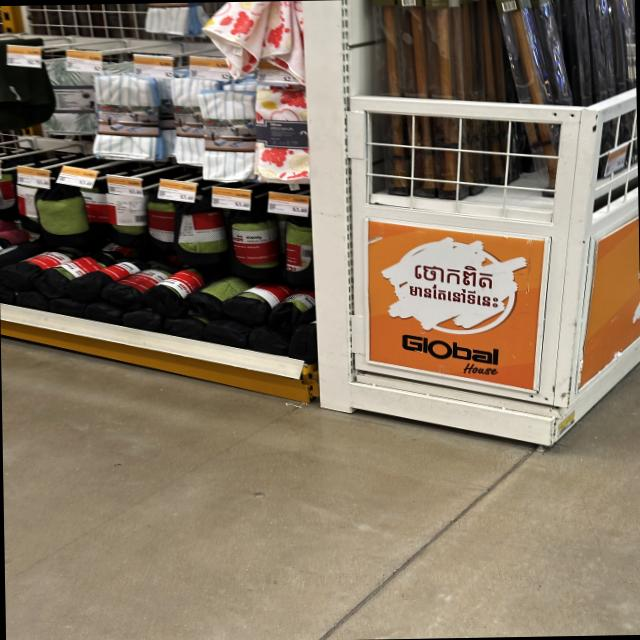Yolov11_80vkh: (403, 256, 498, 290), (400, 282, 502, 313)
